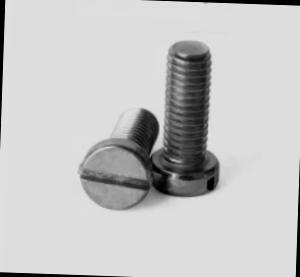screw: (76, 137, 154, 211)
